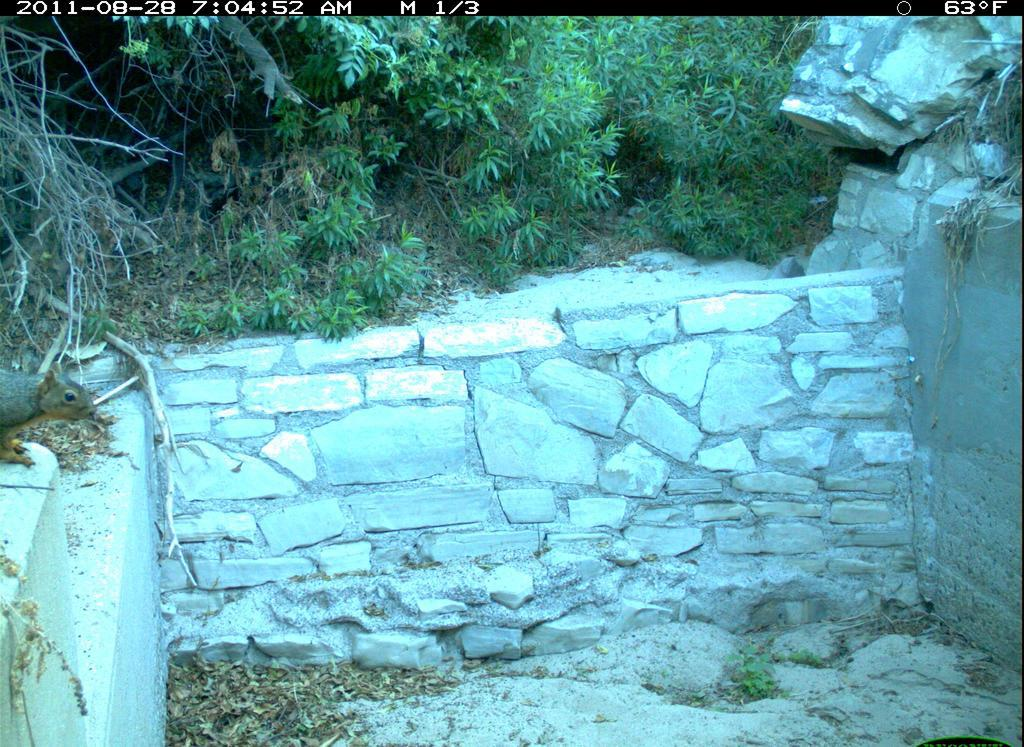squirrel: (1, 356, 104, 478)
